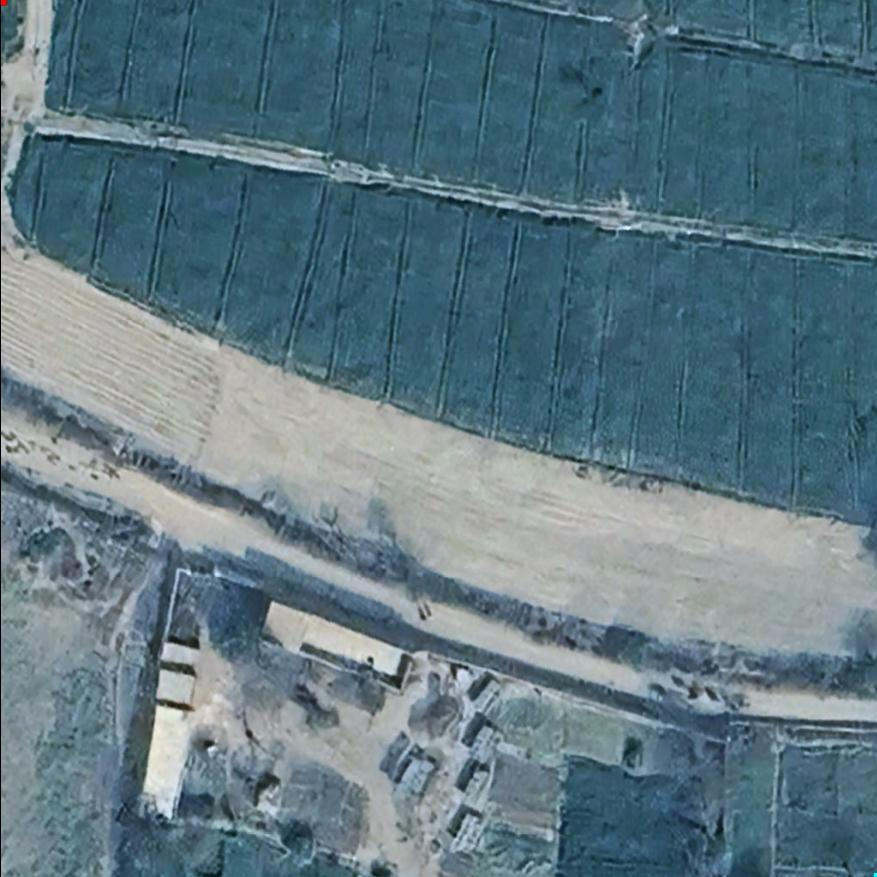Solarpanel: (446, 810, 489, 856), (467, 676, 508, 720), (458, 764, 491, 805), (466, 723, 499, 762)
